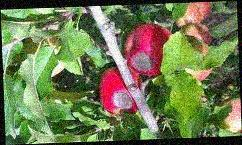rotten apple: (121, 24, 176, 79), (94, 66, 150, 112)
